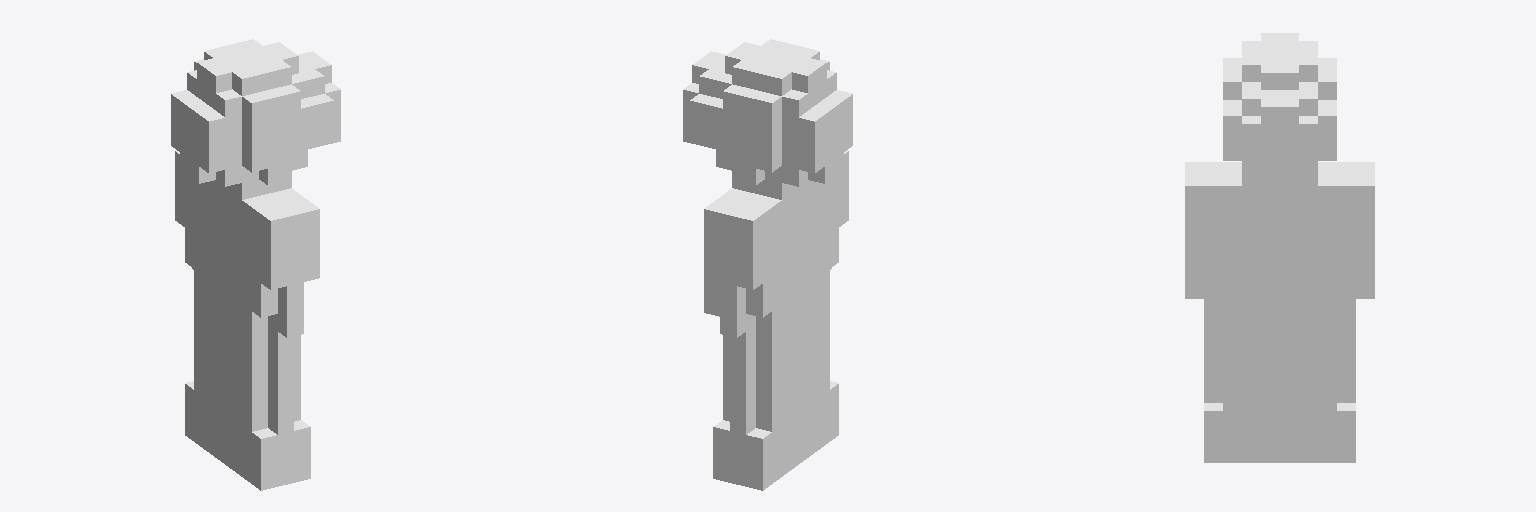
File: guy_body.obj
3 renders of one model, left to right at view 1: azimuth 30°, elevation 25°; view 2: azimuth 150°, elevation 25°; view 3: azimuth 270°, elevation 25°, orthographic.
Parts seen in each view (by area): view 1: object 1; view 2: object 1; view 3: object 1.
Boxes of the visible parts, <box> form: object 1: <box>171,39,340,490</box>; object 1: <box>683,39,852,490</box>; object 1: <box>1185,33,1374,462</box>.
Bounding box in the file's own units: 0.8 × 2.3 × 1.